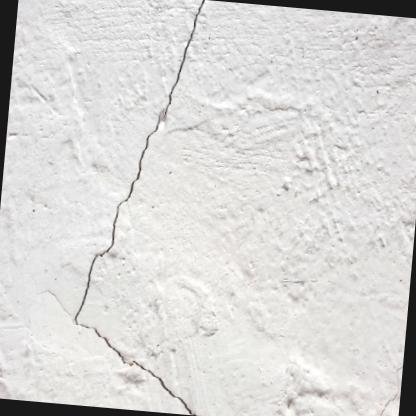crack: (73, 0, 208, 416), (367, 359, 404, 416)
